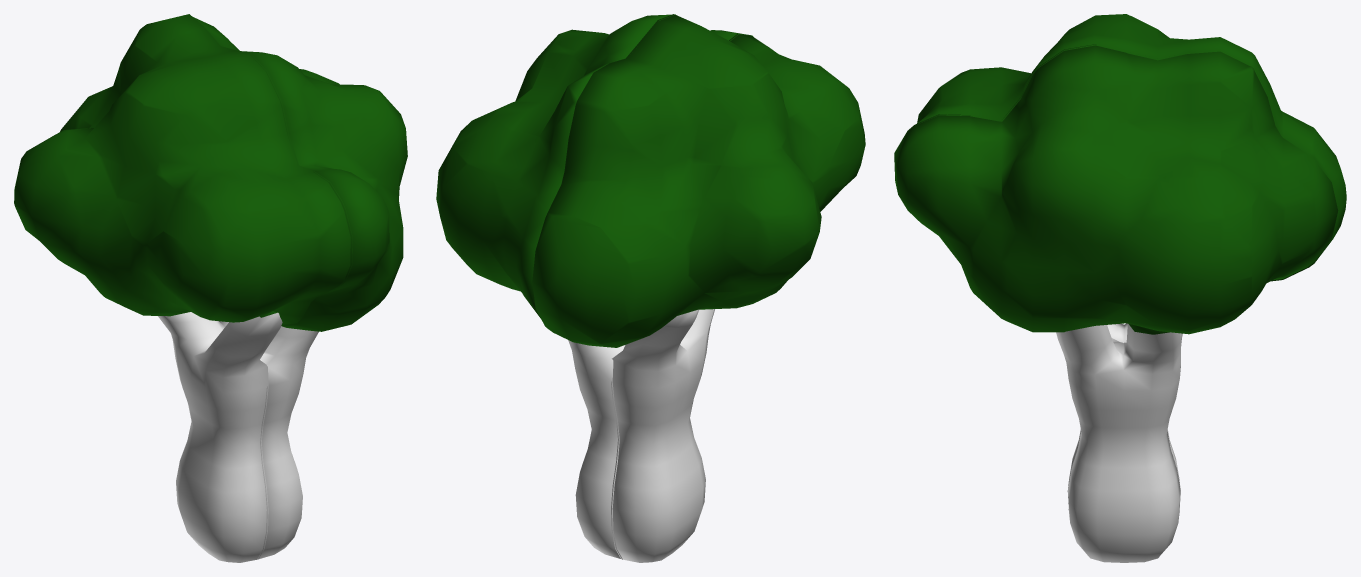
Rendered from BrocoliSliced.fbx.
3 renders of one model, left to right at view 1: azimuth 30°, elevation 25°; view 2: azimuth 150°, elevation 25°; view 3: azimuth 270°, elevation 25°, orthographic. The views are drawn at different scales.
Parts seen in each view (by area): view 1: МСфера.011; view 2: МСфера.011; view 3: МСфера.011.
Boxes of the visible parts, x1=… form: МСфера.011: x1=14, y1=14, x2=407, y2=562; МСфера.011: x1=436, y1=14, x2=865, y2=562; МСфера.011: x1=894, y1=14, x2=1346, y2=562.
Bounding box in the file's own units: 219 × 304 × 245.
